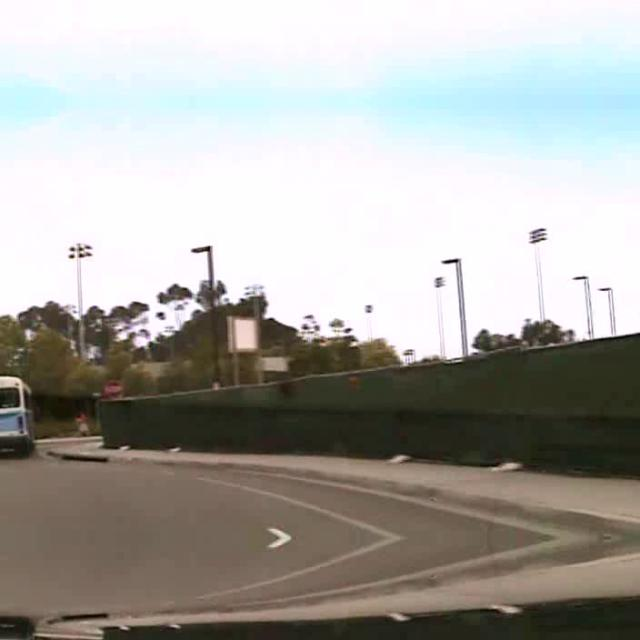stop: (100, 378, 122, 398)
